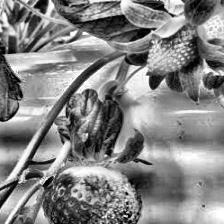Powdery Mildew Fruit: (80, 167, 145, 224)
